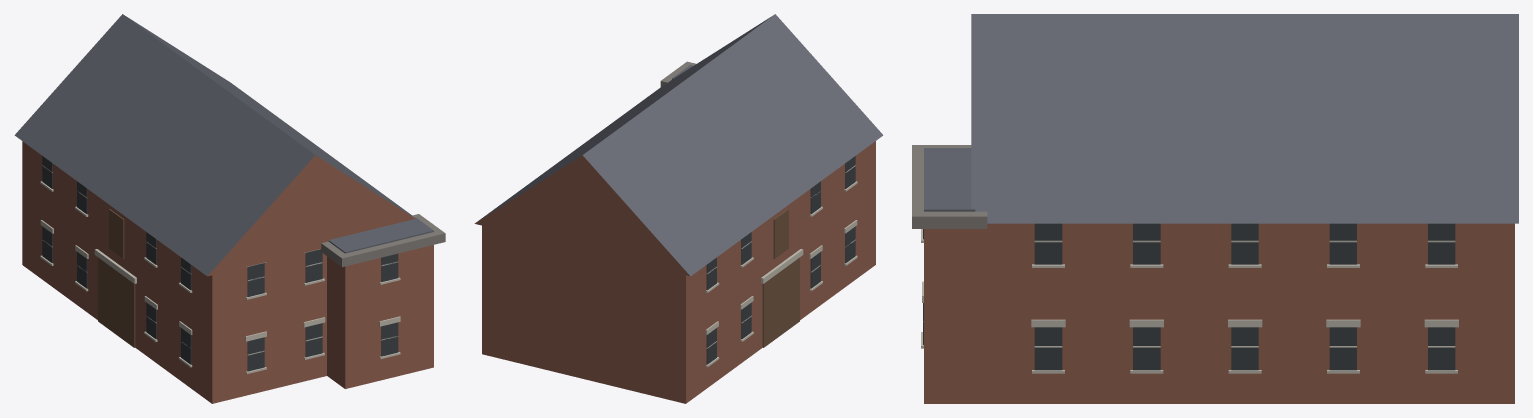
File: marsh_house_1824_prairie_coach_house__draft_1904.glb
3 renders of one model, left to right at view 1: azimuth 30°, elevation 25°; view 2: azimuth 150°, elevation 25°; view 3: azimuth 270°, elevation 25°, orthographic. The views are drawn at different scales.
Visible parts, largest first — view 1: marsh_house_1824_prairie_coach_house__draft_1904; view 2: marsh_house_1824_prairie_coach_house__draft_1904; view 3: marsh_house_1824_prairie_coach_house__draft_1904.
Part boxes in pixels (x1,y1,x2,y2): marsh_house_1824_prairie_coach_house__draft_1904: (14,14,445,403); marsh_house_1824_prairie_coach_house__draft_1904: (474,14,883,403); marsh_house_1824_prairie_coach_house__draft_1904: (912,14,1518,403).
Size of the model in its own units: 10.4 by 10.29 by 17.72.
